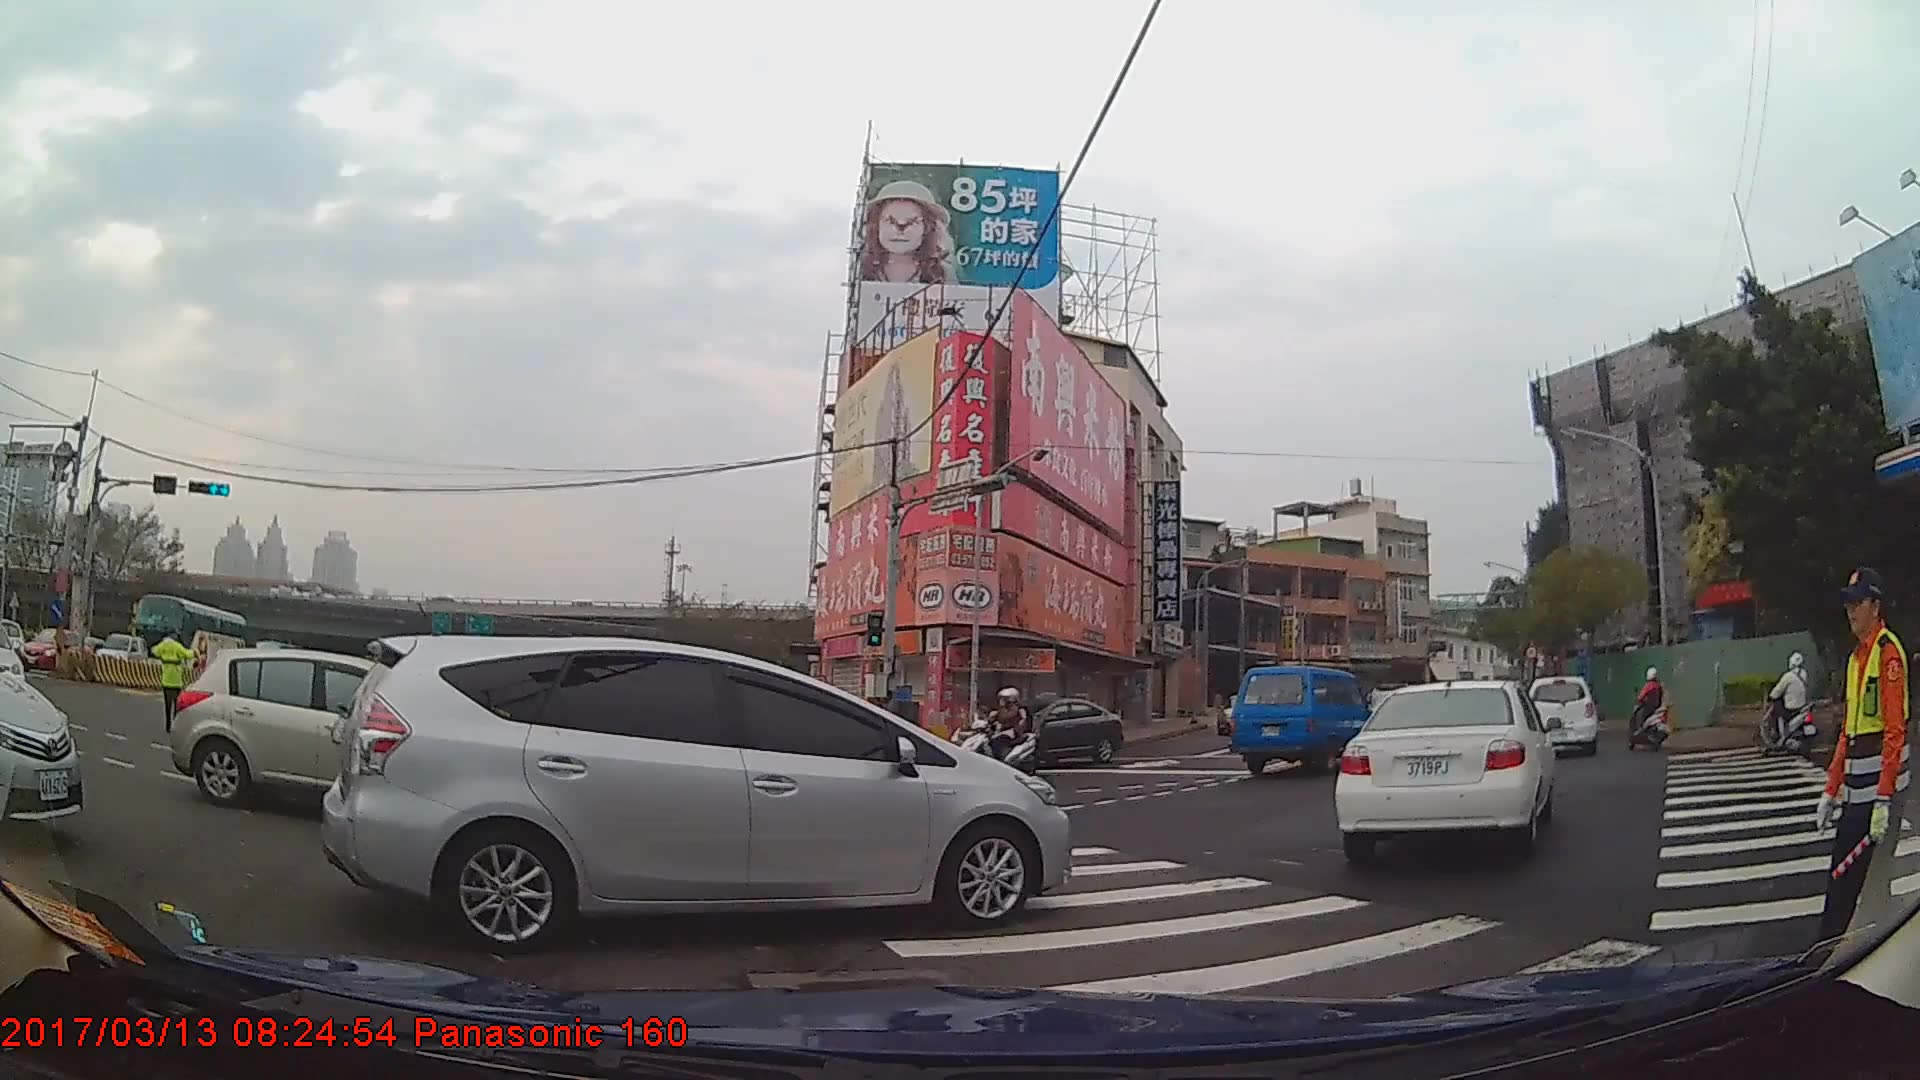pedestrian: (1817, 567, 1920, 991), (144, 623, 201, 729)
rider: (959, 692, 1041, 776), (1758, 648, 1815, 754), (1627, 665, 1671, 749)
vehicle: (316, 624, 1073, 942), (170, 641, 468, 813), (1329, 677, 1553, 854), (1221, 660, 1367, 773), (129, 589, 245, 675), (999, 694, 1123, 767), (1524, 672, 1594, 756), (15, 624, 95, 675), (91, 627, 143, 670)
